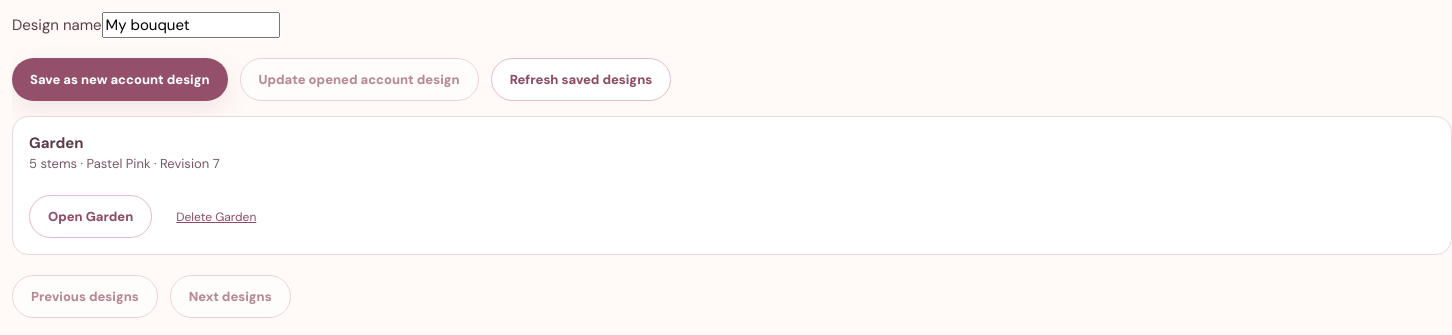
Scenario: lost Customer permission clears private list data and opened selection
Expected: the button "Open Garden" is shown, [29,195,152,238]
Click the button "Save as new account design" at coordinates (120, 80), box [12,58,228,101]
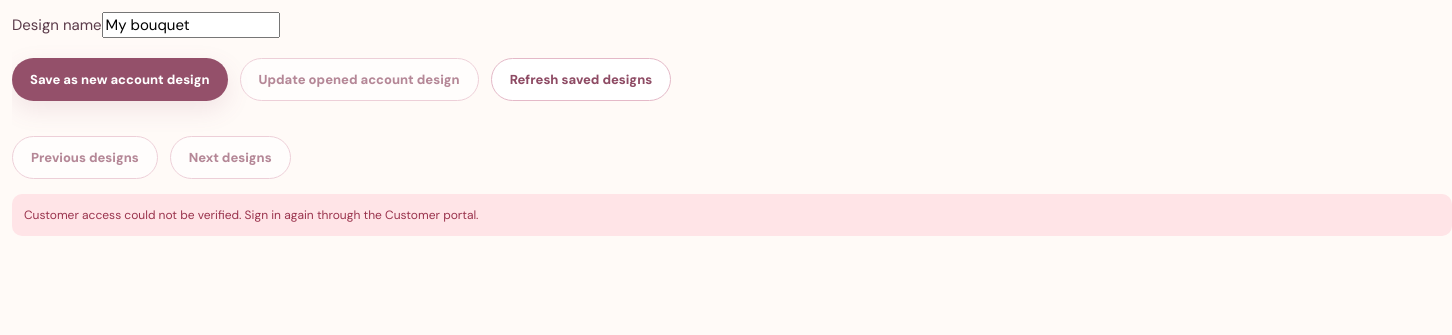
Now the message shows "Customer access", box [24,207,478,223]
